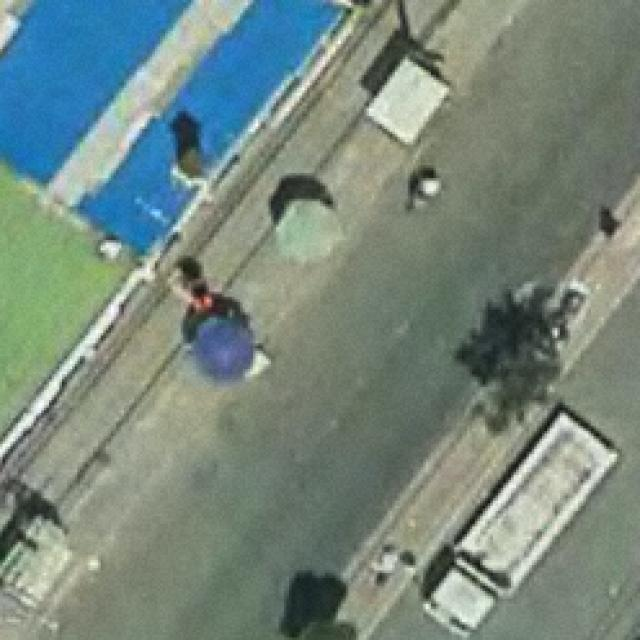vendedor_ambulante: (271, 192, 349, 264), (186, 307, 256, 383)
